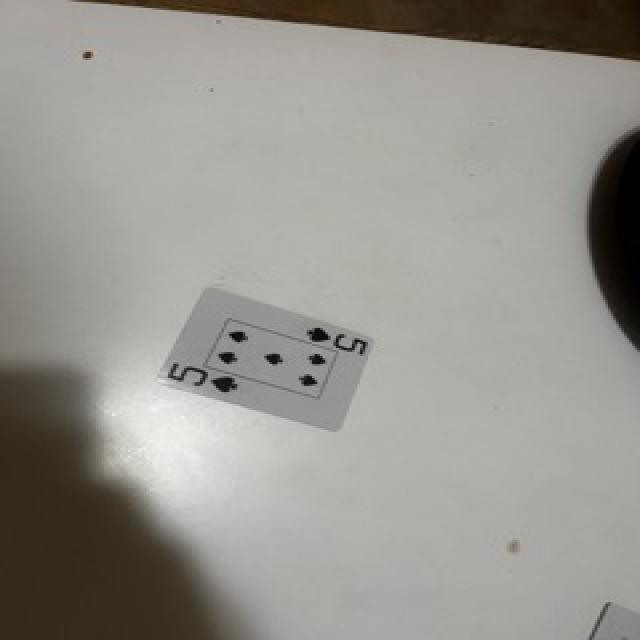5 of spades: (161, 288, 372, 430)
